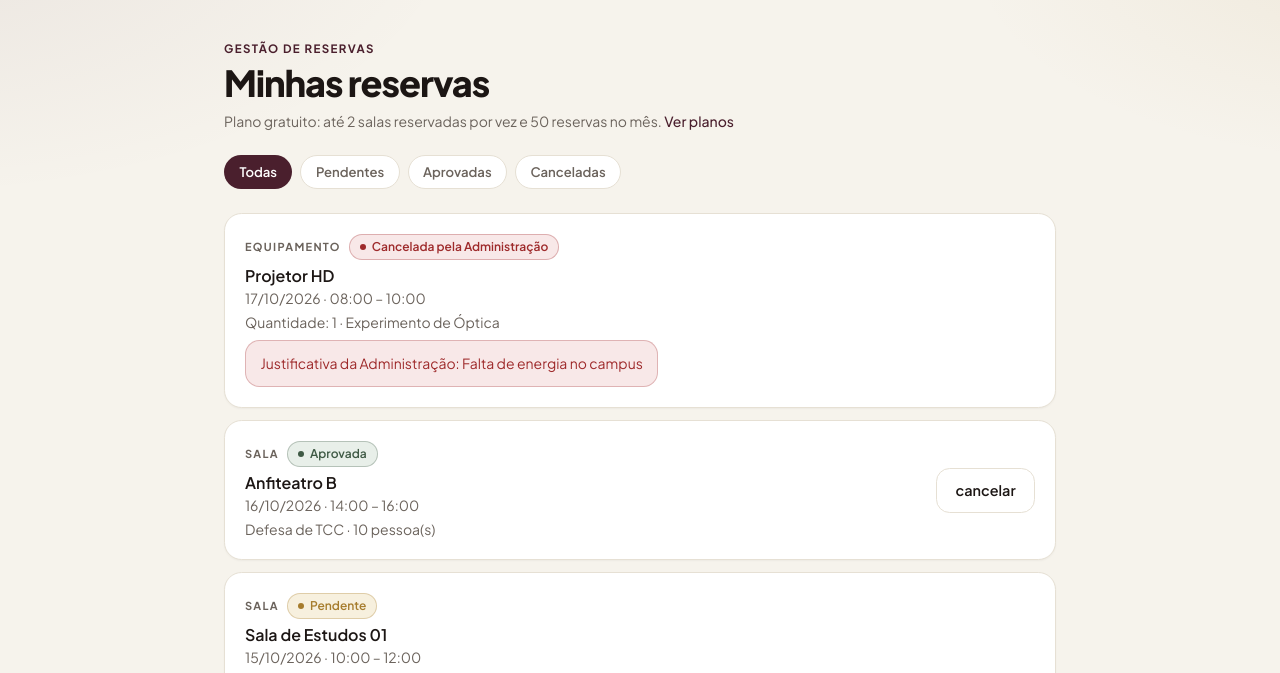
Test: MinhasReservas Page › filtra reservas por status (apenas aprovadas)
Expected: the text "Sala de Estudos 01" is shown, 245,624 -> 387,645
Click the button "Aprovadas" at point(457, 172), box 408,155 -> 507,189
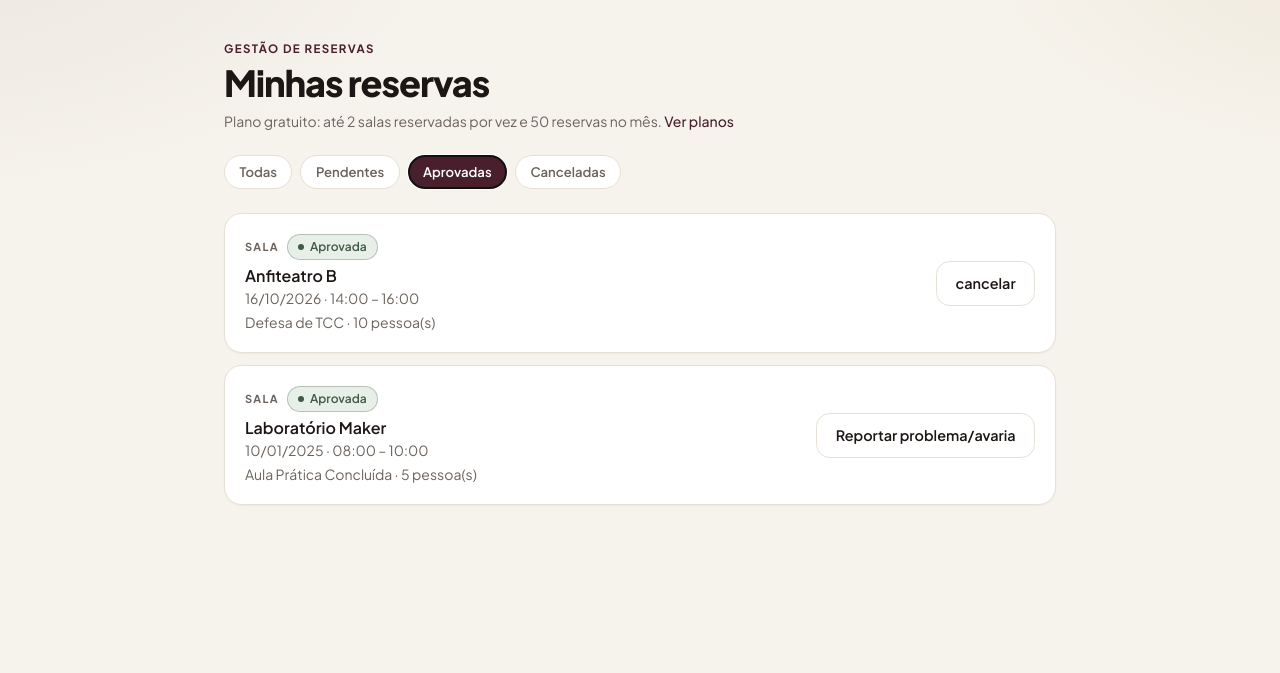
Expected: the text "Anfiteatro B" is shown, 245,265 -> 337,286
Now the text "Sala de Estudos 01" is gone
Now the text "Projetor HD" is gone
